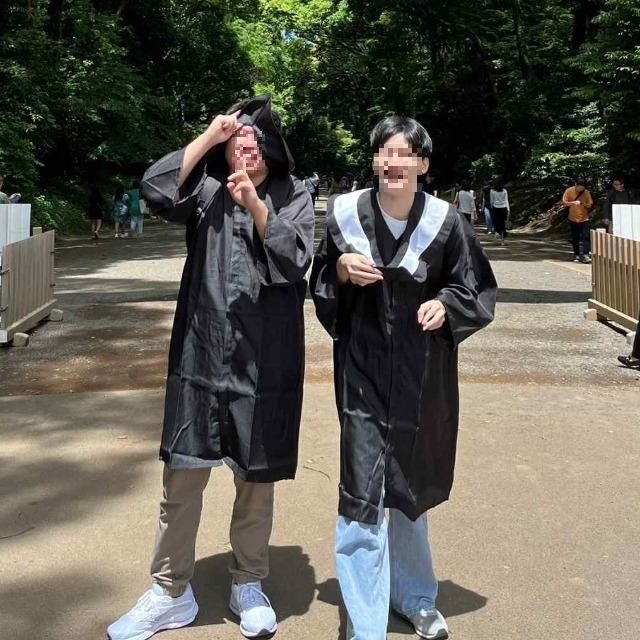NoHelmet: (360, 112, 437, 195)
NoVest: (320, 191, 478, 401)
